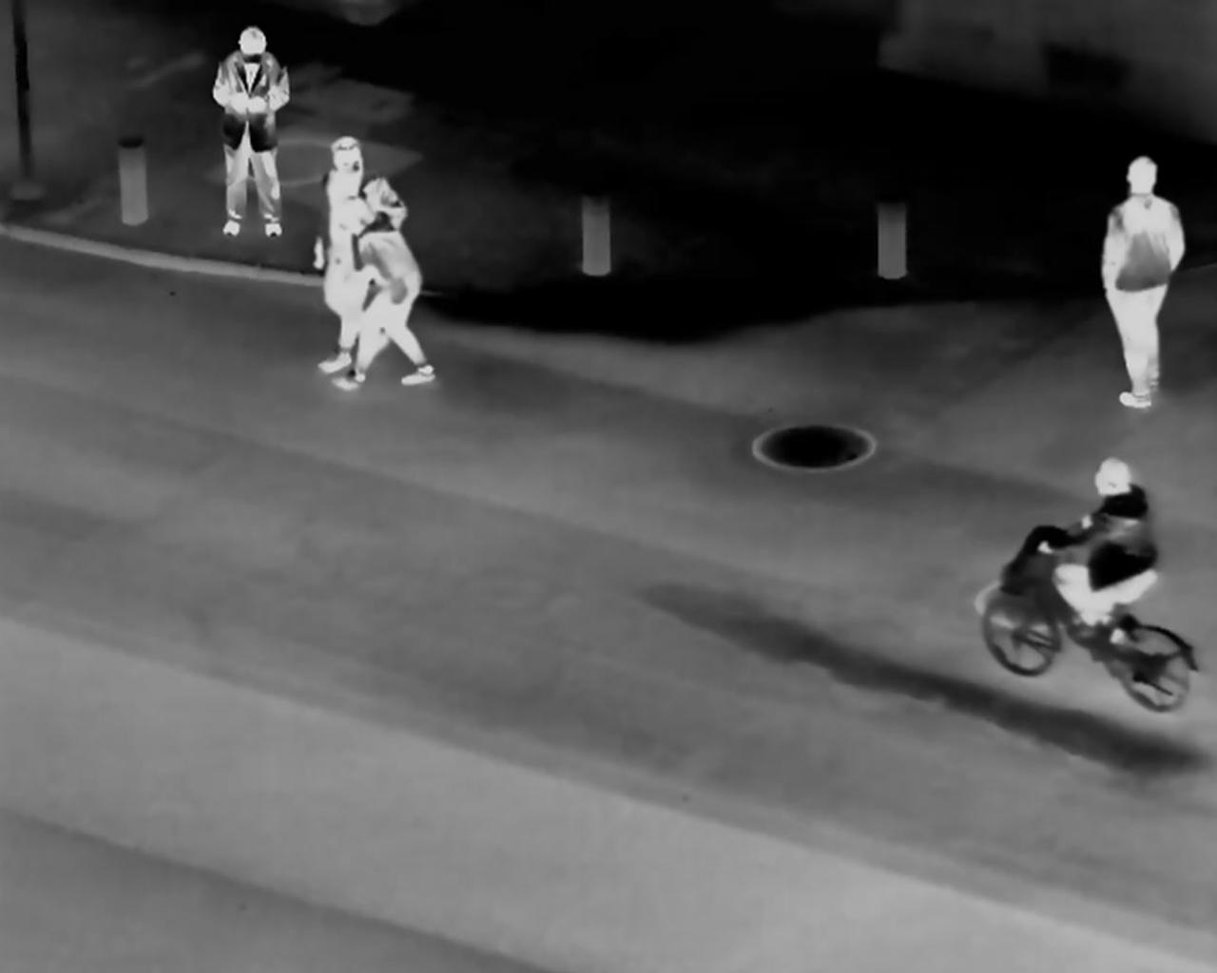person: (1086, 146, 1188, 421), (1043, 442, 1160, 658), (202, 6, 297, 246), (329, 193, 429, 388), (305, 114, 370, 376)
